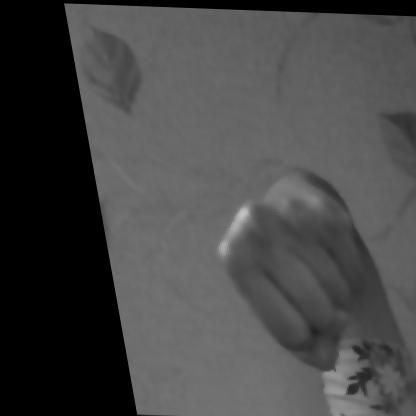fist: (175, 141, 381, 386)
